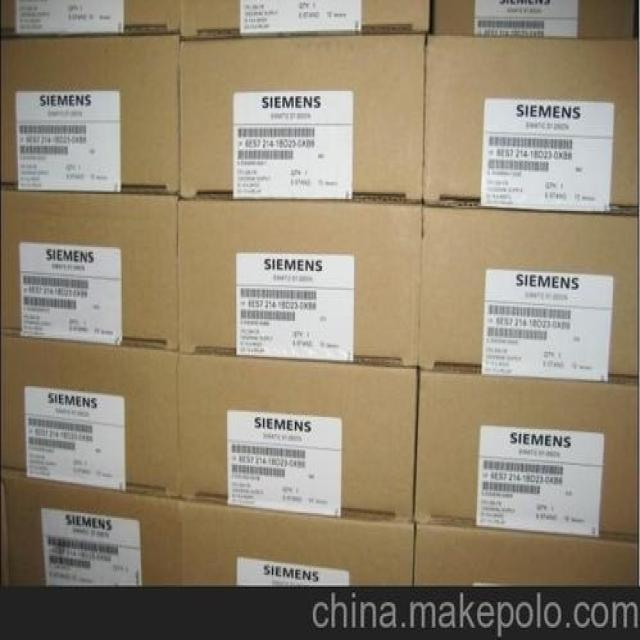box: (175, 195, 423, 367), (179, 36, 427, 203), (177, 351, 419, 520), (415, 204, 638, 378), (414, 370, 638, 542), (421, 35, 639, 209), (0, 329, 181, 498), (0, 185, 178, 354), (1, 35, 182, 192), (0, 470, 182, 588), (179, 498, 414, 586), (413, 522, 639, 585), (182, 2, 429, 37), (432, 0, 638, 35), (1, 3, 182, 36)
